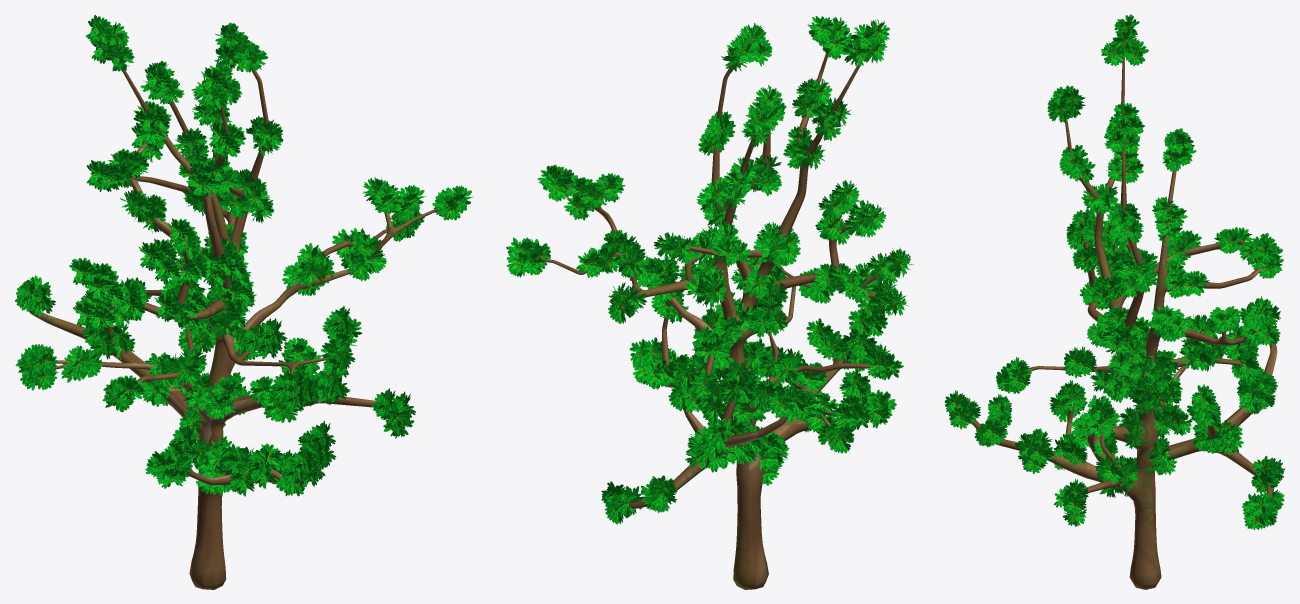
The model's file is Oak_Tree.fbx.
3 views of the same model, side by side, from view 1: azimuth 30°, elevation 25°; view 2: azimuth 150°, elevation 25°; view 3: azimuth 270°, elevation 25° (orthographic). The views are drawn at different scales.
Visible parts, largest first — view 1: Plane, Cube; view 2: Plane, Cube; view 3: Plane, Cube.
Boxes of the visible parts, bbox=[...] form: Plane: bbox=[15, 15, 473, 496]; Cube: bbox=[29, 35, 460, 589]; Plane: bbox=[506, 16, 913, 524]; Cube: bbox=[536, 53, 895, 589]; Plane: bbox=[944, 14, 1284, 530]; Cube: bbox=[958, 49, 1277, 589].
Bounding box in the file's own units: 11.02 × 9.49 × 16.
2 materials, 2 textured.
